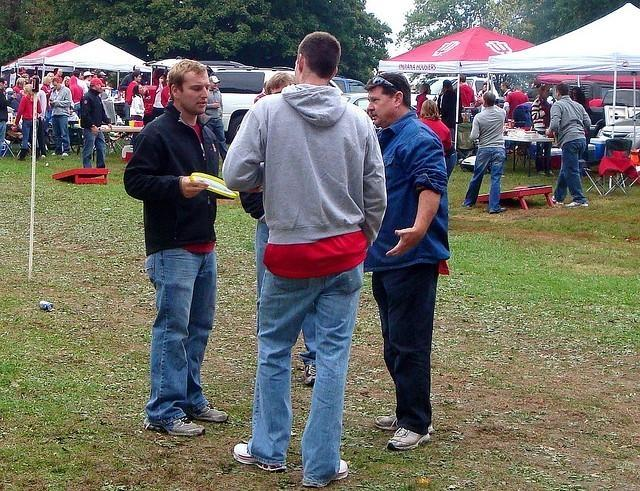car: (208, 70, 294, 144), (596, 120, 640, 147), (332, 76, 368, 92), (346, 93, 370, 112), (466, 77, 486, 98)
truck: (588, 90, 640, 136)
